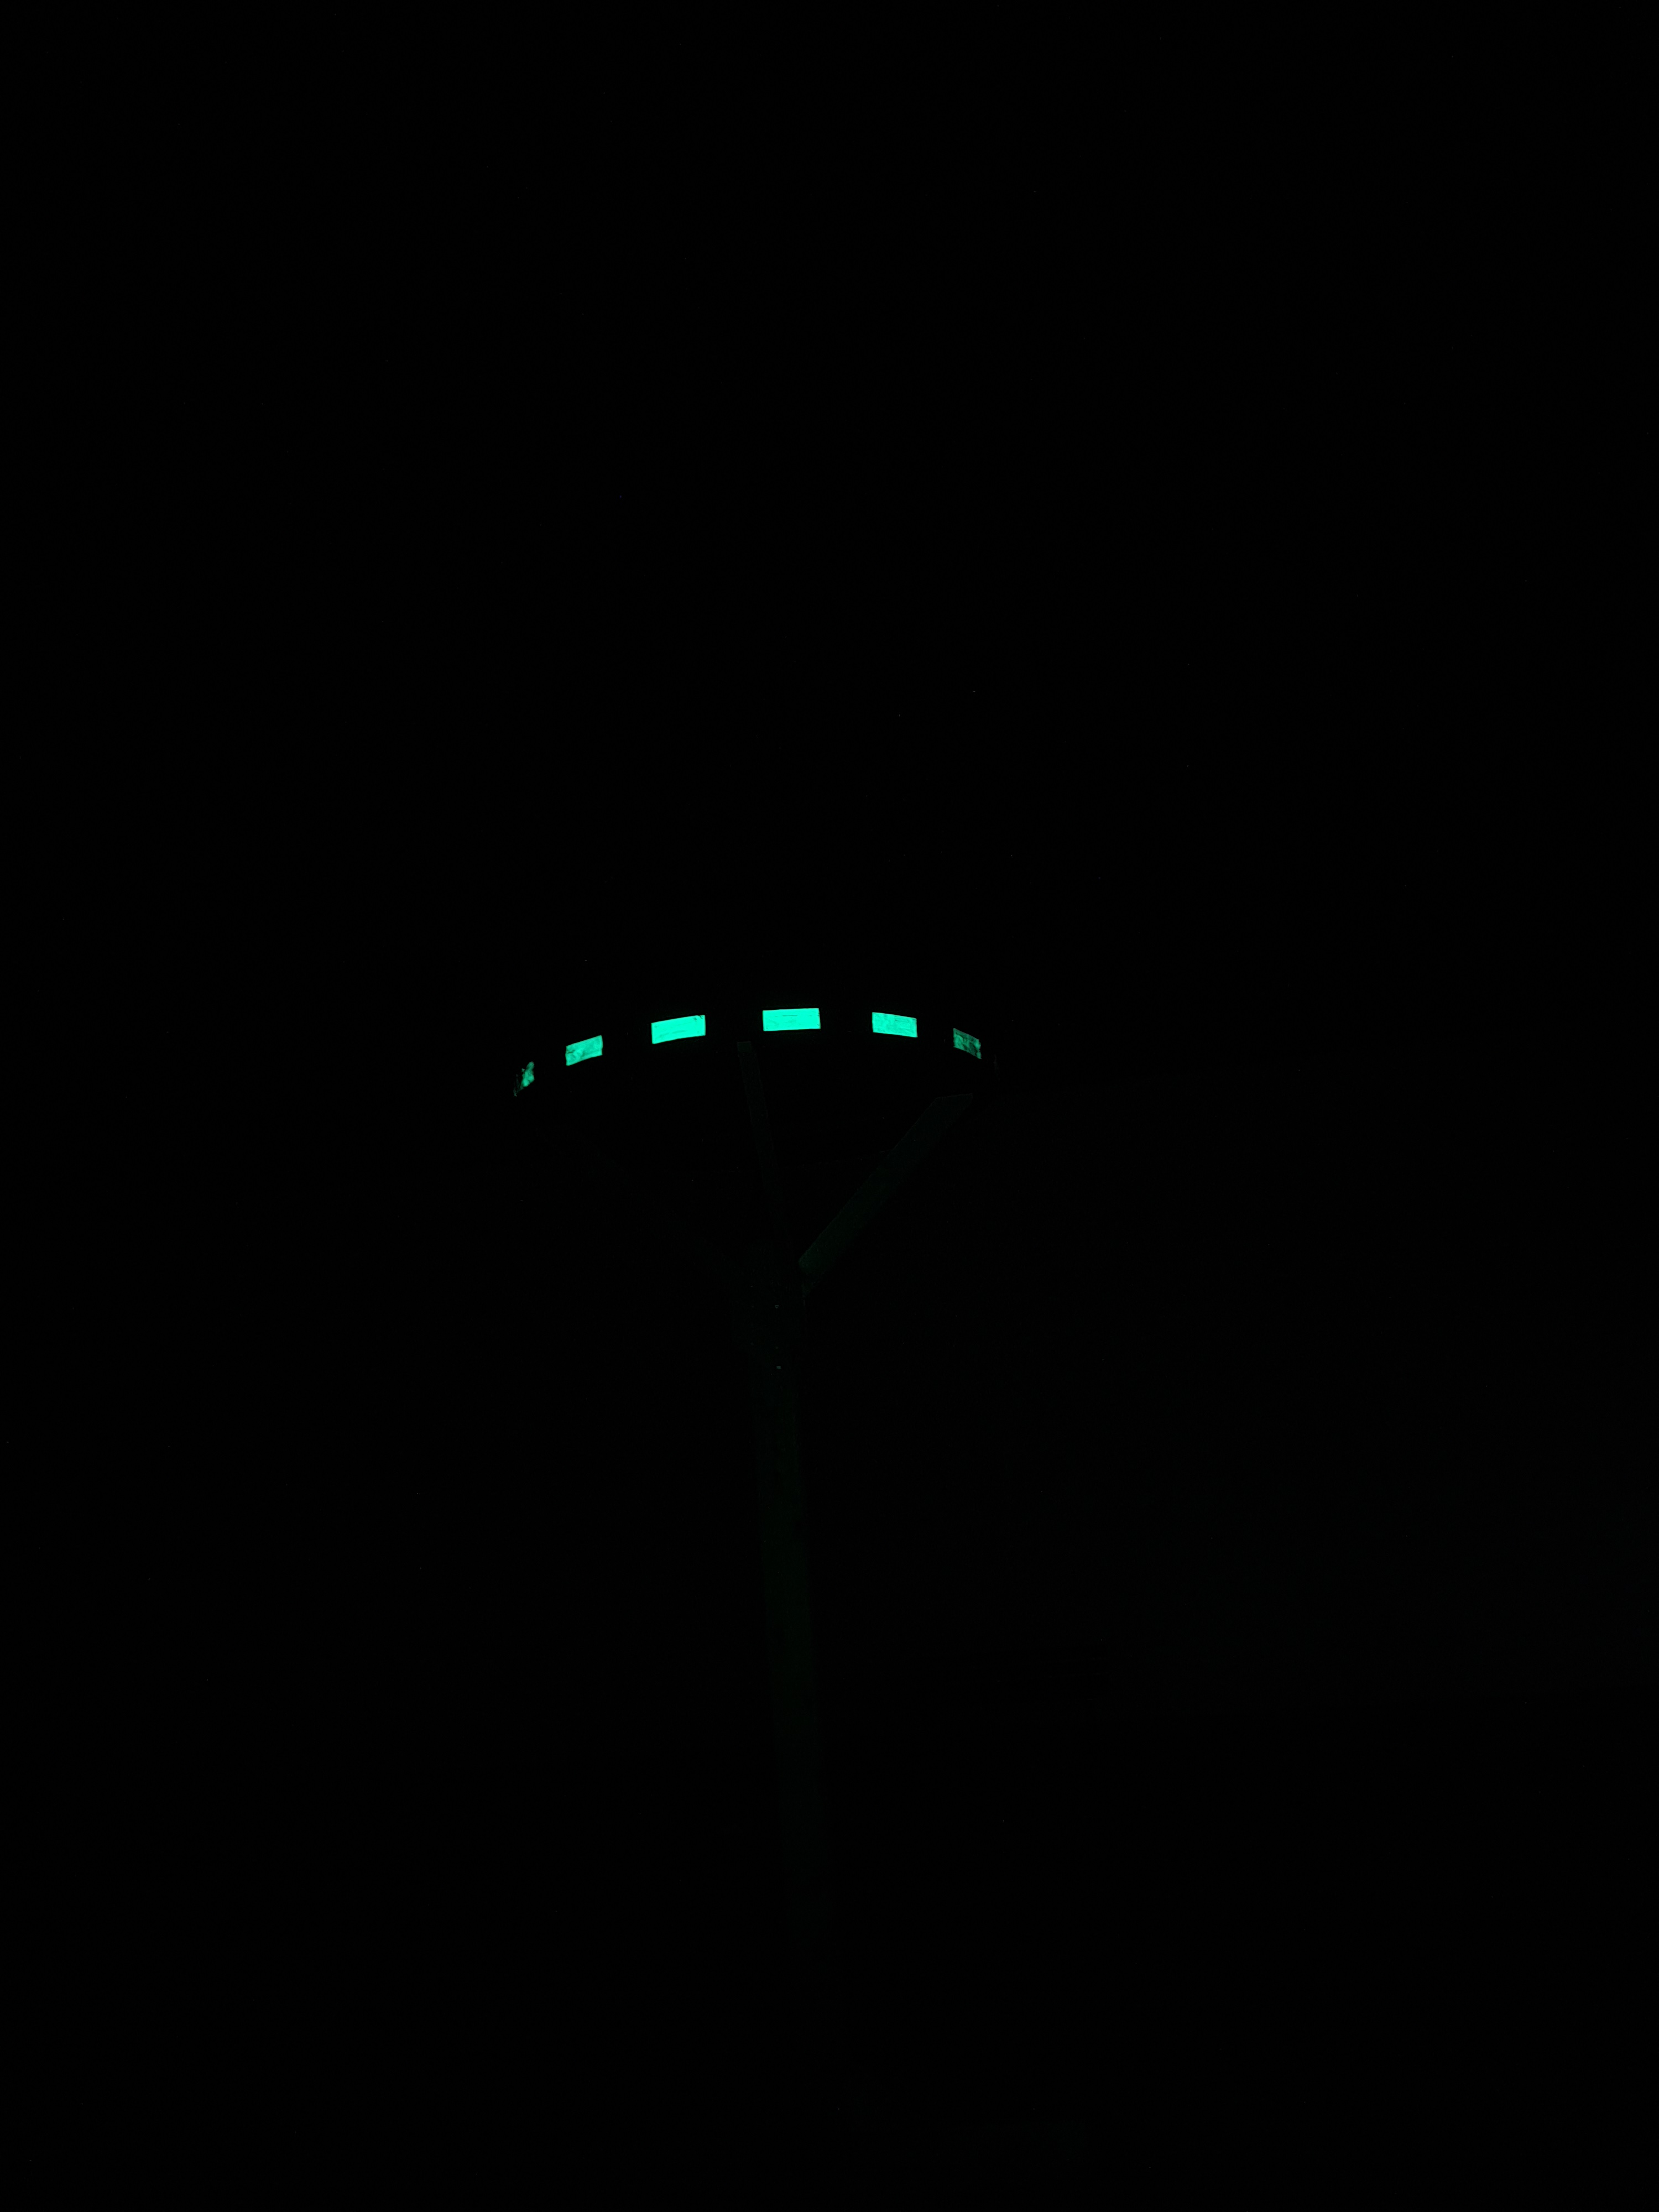hoop: (514, 1008, 990, 1106)
